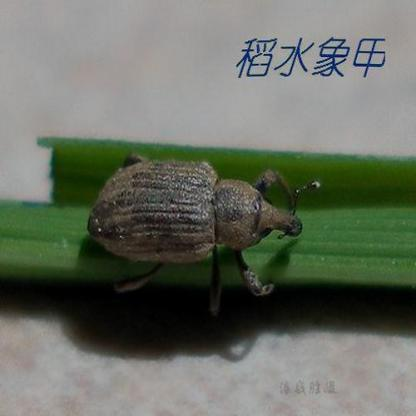rice-bug: (87, 150, 304, 281)
